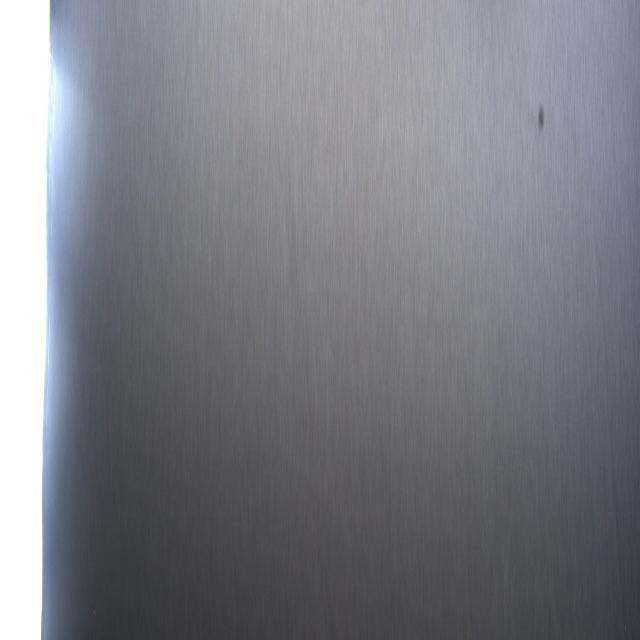crease: (586, 180, 630, 640), (282, 426, 341, 515)
